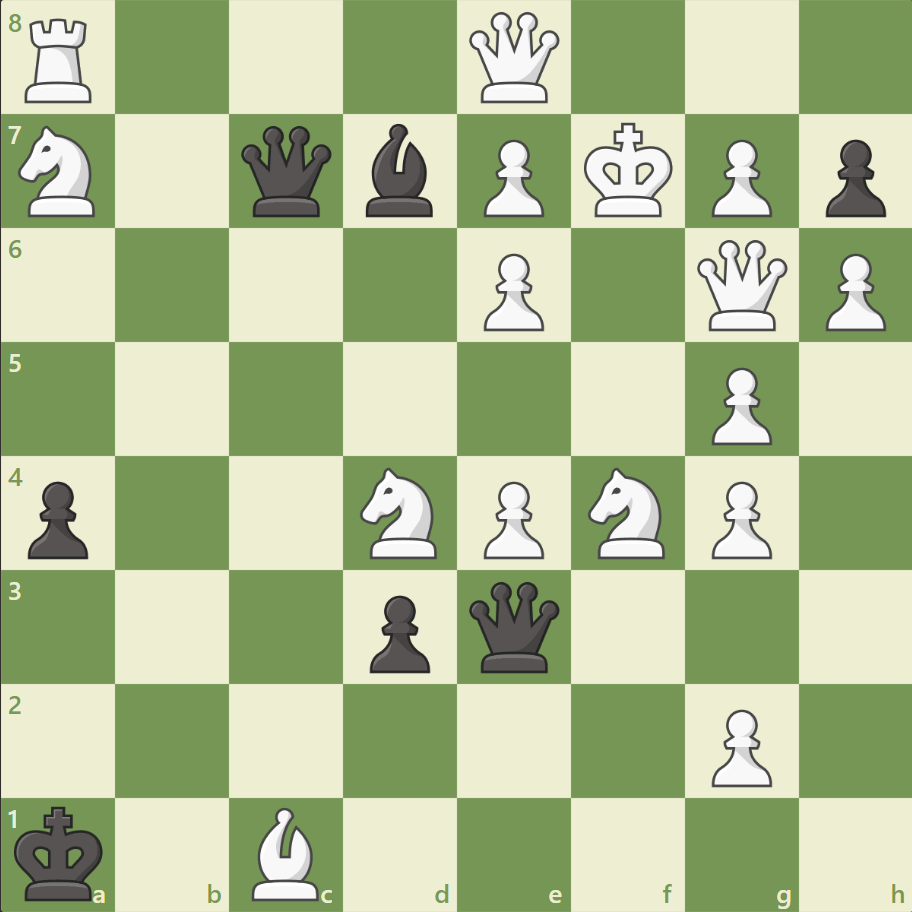B: (244, 801, 328, 904)
K: (579, 117, 679, 225)
N: (351, 461, 449, 564), (579, 461, 676, 564), (11, 121, 108, 223)
P: (474, 132, 549, 223), (701, 132, 776, 223), (474, 246, 549, 337), (701, 359, 776, 450), (474, 473, 549, 564), (701, 473, 776, 564), (701, 700, 776, 791), (815, 246, 889, 337)
Q: (464, 9, 563, 108), (691, 236, 790, 335)
R: (19, 12, 102, 109)
b: (358, 120, 442, 222)
k: (11, 798, 111, 906)
p: (20, 473, 95, 564), (815, 132, 889, 223), (361, 586, 435, 677)
q: (237, 122, 336, 222), (464, 576, 563, 676)
